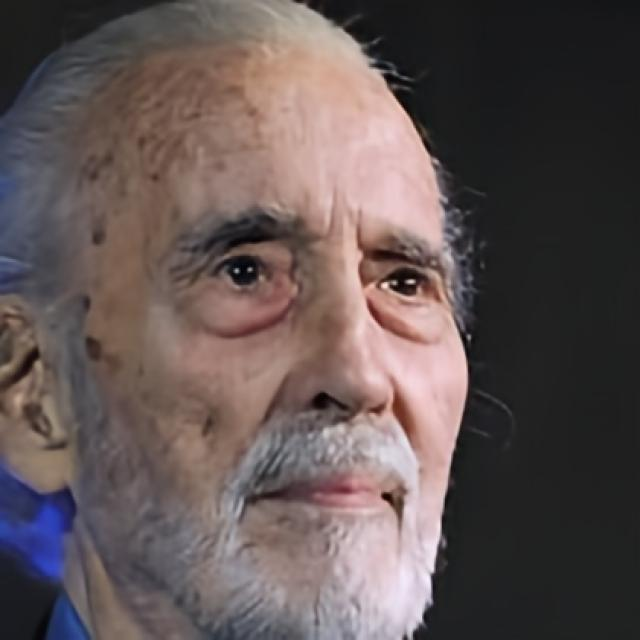sad: (69, 48, 470, 640)
